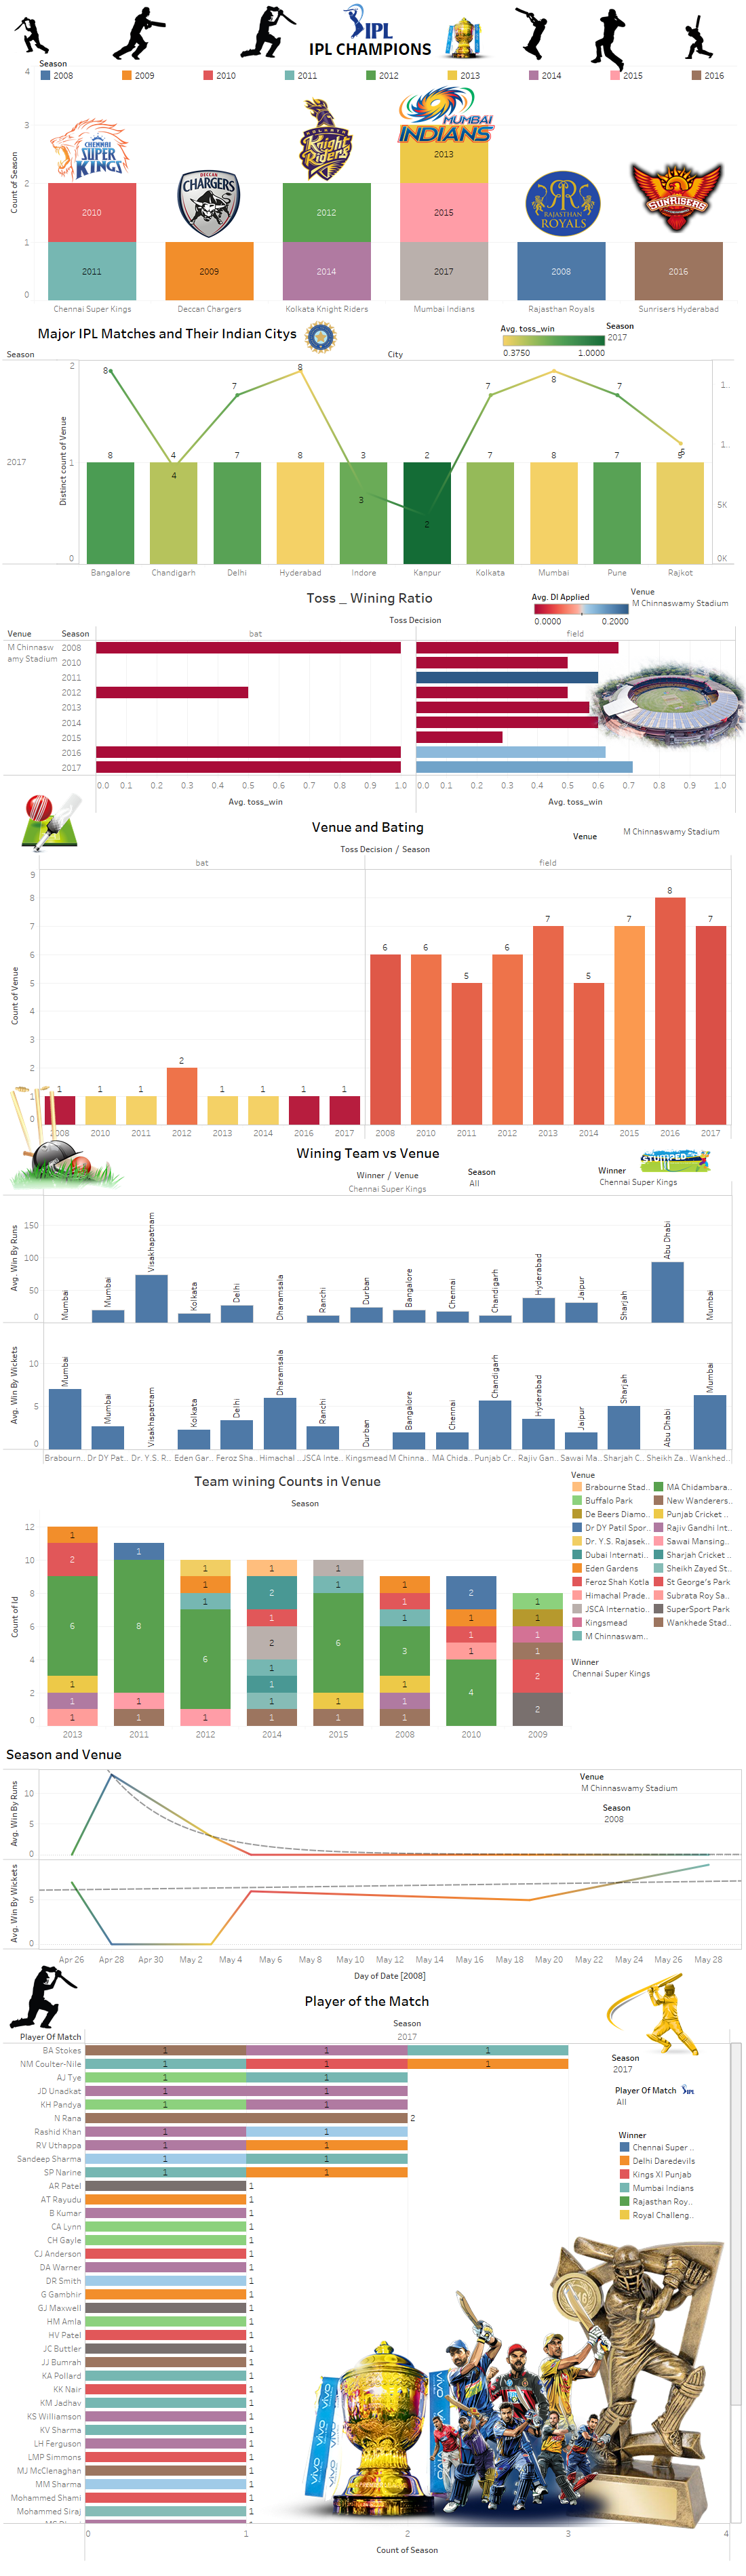

Layout of this report page (visuals, bound fields, positions):
{"tool":"tableau","page":{"name":"Dashboard 2","canvas":[1100,3800],"ordinal":1},"visuals":[{"type":"image","param":"C:/Users/Sam Jones/Downloads/sam_IPL_TWBX.twb Files/Image/output-onlinepngtools ","box":[335,4,131,181]},{"type":"image","param":"C:/Users/Sam Jones/Downloads/sam_IPL_TWBX.twb Files/Image/IPL-10-Logo-PNG.png","box":[505,4,77,53]},{"type":"image","param":"C:/Users/Sam Jones/Downloads/sam_IPL_TWBX.twb Files/Image/cricket-batsman-vector","box":[139,5,133,83]},{"type":"image","param":"C:/Users/Sam Jones/Downloads/sam_IPL_TWBX.twb Files/Image/best-free-cricket-hd-c","box":[733,9,107,116]},{"type":"image","param":"C:/Users/Sam Jones/Downloads/sam_IPL_TWBX.twb Files/Image/Cricket-PNG-Free-Downl","box":[4,12,97,67]},{"type":"image","param":"C:/Users/Sam Jones/Downloads/sam_IPL_TWBX.twb Files/Image/cricket-bowler-png-4.p","box":[870,12,67,95]},{"type":"image","param":"C:/Users/Sam Jones/Downloads/sam_IPL_TWBX.twb Files/Image/best-hd-cricket-batsma","box":[979,16,95,82]},{"type":"image","param":"C:/Users/Sam Jones/Downloads/sam_IPL_TWBX.twb Files/Image/ipl-trophy-png-5.png","box":[618,22,131,175]},{"type":"worksheet","title":"Sheet 21","mark":"Automatic","rows":["season"],"cols":["winner"],"box":[5,49.5,1082,433]},{"type":"legend","title":"Sheet 21","param":"[federated.00dmgwm1rd6mrt10sfblk1gyuzx7].[none:season:nk]","box":[57,83,1032,55]},{"type":"image","param":"C:/Users/Sam Jones/Downloads/sam_IPL_TWBX.twb Files/Image/Mumbai-Indians-Logo-PN","box":[584,119,291,92]},{"type":"image","param":"C:/Users/Sam Jones/Downloads/sam_IPL_TWBX.twb Files/Image/Kolkata-Knight-Riders-","box":[439,141,115,127]},{"type":"image","param":"C:/Users/Sam Jones/Downloads/sam_IPL_TWBX.twb Files/Image/Chennai-Super-Kings-Lo","box":[70,172,124,116]},{"type":"image","param":"C:/Users/Sam Jones/Downloads/sam_IPL_TWBX.twb Files/Image/sunriser-hydrabad-team","box":[924,237,145,160]},{"type":"image","param":"C:/Users/Sam Jones/Downloads/sam_IPL_TWBX.twb Files/Image/Deccan-Chargers-Logo-P","box":[247,238,122,133]},{"type":"image","param":"C:/Users/Sam Jones/Downloads/sam_IPL_TWBX.twb Files/Image/1200px-Rajasthan_Royal","box":[774,251,112,170]},{"type":"image","param":"C:/Users/Sam Jones/Downloads/sam_IPL_TWBX.twb Files/Image/output-onlinepngtools ","box":[568,467,91,54]},{"type":"worksheet","title":"city vs venue labeled with matched ","mark":"Automatic","rows":["season","venue","season (matches.csv1)"],"cols":["city"],"box":[4,471,1080,383]},{"type":"filter","title":"city vs venue labeled with matched ","param":"[federated.00dmgwm1rd6mrt10sfblk1gyuzx7].[none:season:nk]","box":[894,471,175,68]},{"type":"legend","title":"city vs venue labeled with matched ","param":"[federated.00dmgwm1rd6mrt10sfblk1gyuzx7].[avg:Calculation_304837416487759872:qk]","box":[738,472,159,111]},{"type":"worksheet","title":"toss_win ratio","mark":"Automatic","rows":["venue","season"],"cols":["toss_decision","Calculation_304837416487759872"],"box":[5,860.7,1080,338.5]},{"type":"filter","title":"toss_win ratio","param":"[federated.00dmgwm1rd6mrt10sfblk1gyuzx7].[none:venue:nk]","box":[930,863,154,67]},{"type":"legend","title":"toss_win ratio","param":"[federated.00dmgwm1rd6mrt10sfblk1gyuzx7].[avg:dl_applied:qk]","box":[784,868,148,64]},{"type":"image","param":"C:/Users/Sam Jones/Downloads/sam_IPL_TWBX.twb Files/Image/ksca-stadium.png","box":[863,966,242,170]},{"type":"worksheet","title":"venue vs bat","mark":"Automatic","rows":["venue"],"cols":["toss_decision","season"],"box":[6,1199.2,1073,481.6]},{"type":"filter","title":"venue vs bat","param":"[federated.00dmgwm1rd6mrt10sfblk1gyuzx7].[none:venue:nk]","box":[845,1218,234,31]},{"type":"image","param":"C:/Users/Sam Jones/Downloads/sam_IPL_TWBX.twb Files/Image/output-onlinepngtools ","box":[5,1583,426,184]},{"type":"worksheet","title":"csk win","mark":"Automatic","rows":["win_by_runs","win_by_wickets"],"cols":["winner","venue"],"box":[5,1679.9,1075,479.9]},{"type":"filter","title":"csk win","param":"[federated.00dmgwm1rd6mrt10sfblk1gyuzx7].[none:winner:nk]","box":[882,1717.1,194,66.3]},{"type":"filter","title":"csk win","param":"[federated.00dmgwm1rd6mrt10sfblk1gyuzx7].[none:season:nk]","box":[690,1718.9,195,67.1]},{"type":"worksheet","title":"season vs team win count","mark":"Automatic","rows":["id"],"cols":["season"],"box":[6,2164.2,836,403]},{"type":"legend","title":"season vs team win count","param":"[federated.00dmgwm1rd6mrt10sfblk1gyuzx7].[none:venue:nk]","box":[841,2165.1,240,273.9]},{"type":"filter","title":"season vs team win count","param":"[federated.00dmgwm1rd6mrt10sfblk1gyuzx7].[none:winner:nk]","box":[842,2441.7,235,52.1]},{"type":"worksheet","title":"Sheet 20","mark":"Automatic","rows":["win_by_runs","win_by_wickets"],"cols":["date"],"box":[5,2567.2,1089,364.1]},{"type":"filter","title":"Sheet 20","param":"[federated.00dmgwm1rd6mrt10sfblk1gyuzx7].[none:venue:nk]","box":[855,2611.4,230,51.3]},{"type":"filter","title":"Sheet 20","param":"[federated.00dmgwm1rd6mrt10sfblk1gyuzx7].[none:season:nk]","box":[889,2657.3,198,52.1]},{"type":"image","param":"C:/Users/Sam Jones/Downloads/sam_IPL_TWBX.twb Files/Image/f51974eb73a850ac5d1945","box":[888,2910,163,212]},{"type":"worksheet","title":"player 2008","mark":"Automatic","rows":["player_of_match"],"cols":["season","season"],"box":[5,2931,1089,847]},{"type":"filter","title":"player 2008","param":"[federated.00dmgwm1rd6mrt10sfblk1gyuzx7].[none:season:nk]","box":[902,3025.9,171,49.5]},{"type":"image","param":"C:/Users/Sam Jones/Downloads/sam_IPL_TWBX.twb Files/Image/IPL-10-Logo-PNG.png","box":[1003,3074,21,21]},{"type":"legend","title":"Sheet 20","param":"[federated.00dmgwm1rd6mrt10sfblk1gyuzx7].[attr:winner:nk]","box":[911,3139,115,145]}]}

Visuals, with their boxes in screenshot pixels (x1, y1, x2, y2), scaled from the page's 1100x3800 canvas onto the 746x2576 screenshot:
image: l=227, t=3, r=316, b=125
image: l=342, t=3, r=395, b=39
image: l=94, t=3, r=184, b=60
image: l=497, t=6, r=570, b=85
image: l=3, t=8, r=68, b=54
image: l=590, t=8, r=635, b=73
image: l=664, t=11, r=728, b=66
image: l=419, t=15, r=508, b=134
"Sheet 21" worksheet: l=3, t=34, r=737, b=327
"Sheet 21" legend: l=39, t=56, r=739, b=94
image: l=396, t=81, r=593, b=143
image: l=298, t=96, r=376, b=182
image: l=47, t=117, r=132, b=195
image: l=627, t=161, r=725, b=269
image: l=168, t=161, r=250, b=251
image: l=525, t=170, r=601, b=285
image: l=385, t=317, r=447, b=353
"city vs venue labeled with matched " worksheet: l=3, t=319, r=735, b=579
"city vs venue labeled with matched " filter: l=606, t=319, r=725, b=365
"city vs venue labeled with matched " legend: l=500, t=320, r=608, b=395
"toss_win ratio" worksheet: l=3, t=584, r=736, b=813
"toss_win ratio" filter: l=631, t=585, r=735, b=630
"toss_win ratio" legend: l=532, t=588, r=632, b=632
image: l=585, t=655, r=745, b=770
"venue vs bat" worksheet: l=4, t=813, r=732, b=1140
"venue vs bat" filter: l=573, t=826, r=732, b=847
image: l=3, t=1073, r=292, b=1198
"csk win" worksheet: l=3, t=1139, r=732, b=1464
"csk win" filter: l=598, t=1164, r=730, b=1209
"csk win" filter: l=468, t=1165, r=600, b=1211
"season vs team win count" worksheet: l=4, t=1467, r=571, b=1740
"season vs team win count" legend: l=570, t=1468, r=733, b=1653
"season vs team win count" filter: l=571, t=1655, r=730, b=1691
"Sheet 20" worksheet: l=3, t=1740, r=742, b=1987
"Sheet 20" filter: l=580, t=1770, r=736, b=1805
"Sheet 20" filter: l=603, t=1801, r=737, b=1836
image: l=602, t=1973, r=713, b=2116
"player 2008" worksheet: l=3, t=1987, r=742, b=2561
"player 2008" filter: l=612, t=2051, r=728, b=2085
image: l=680, t=2084, r=694, b=2098
"Sheet 20" legend: l=618, t=2128, r=696, b=2226
